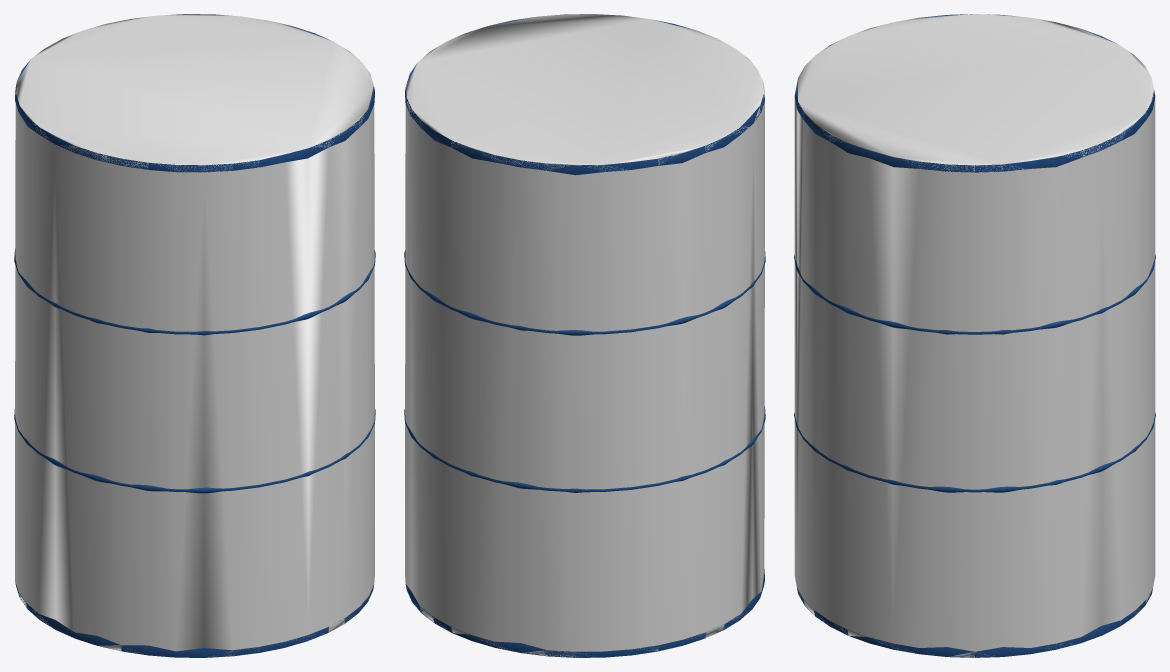
File: SM_MetalDrum.glb
3 renders of one model, left to right at view 1: azimuth 30°, elevation 25°; view 2: azimuth 150°, elevation 25°; view 3: azimuth 270°, elevation 25°, orthographic.
Visible parts, largest first — view 1: SM_MetalDrum_col, SM_MetalDrum_LOD0; view 2: SM_MetalDrum_col, SM_MetalDrum_LOD0; view 3: SM_MetalDrum_col, SM_MetalDrum_LOD0.
Part boxes in pixels (box(x1,y1,x2,y2)): SM_MetalDrum_col: box(15, 14, 374, 657); SM_MetalDrum_LOD0: box(14, 27, 375, 657); SM_MetalDrum_col: box(405, 14, 764, 657); SM_MetalDrum_LOD0: box(404, 17, 765, 657); SM_MetalDrum_col: box(794, 14, 1155, 657); SM_MetalDrum_LOD0: box(794, 14, 1155, 657).
Size of what is drawn, in the model's own units: 0.586 by 0.88 by 0.586.
Materials: 2 (2 with a texture image).
